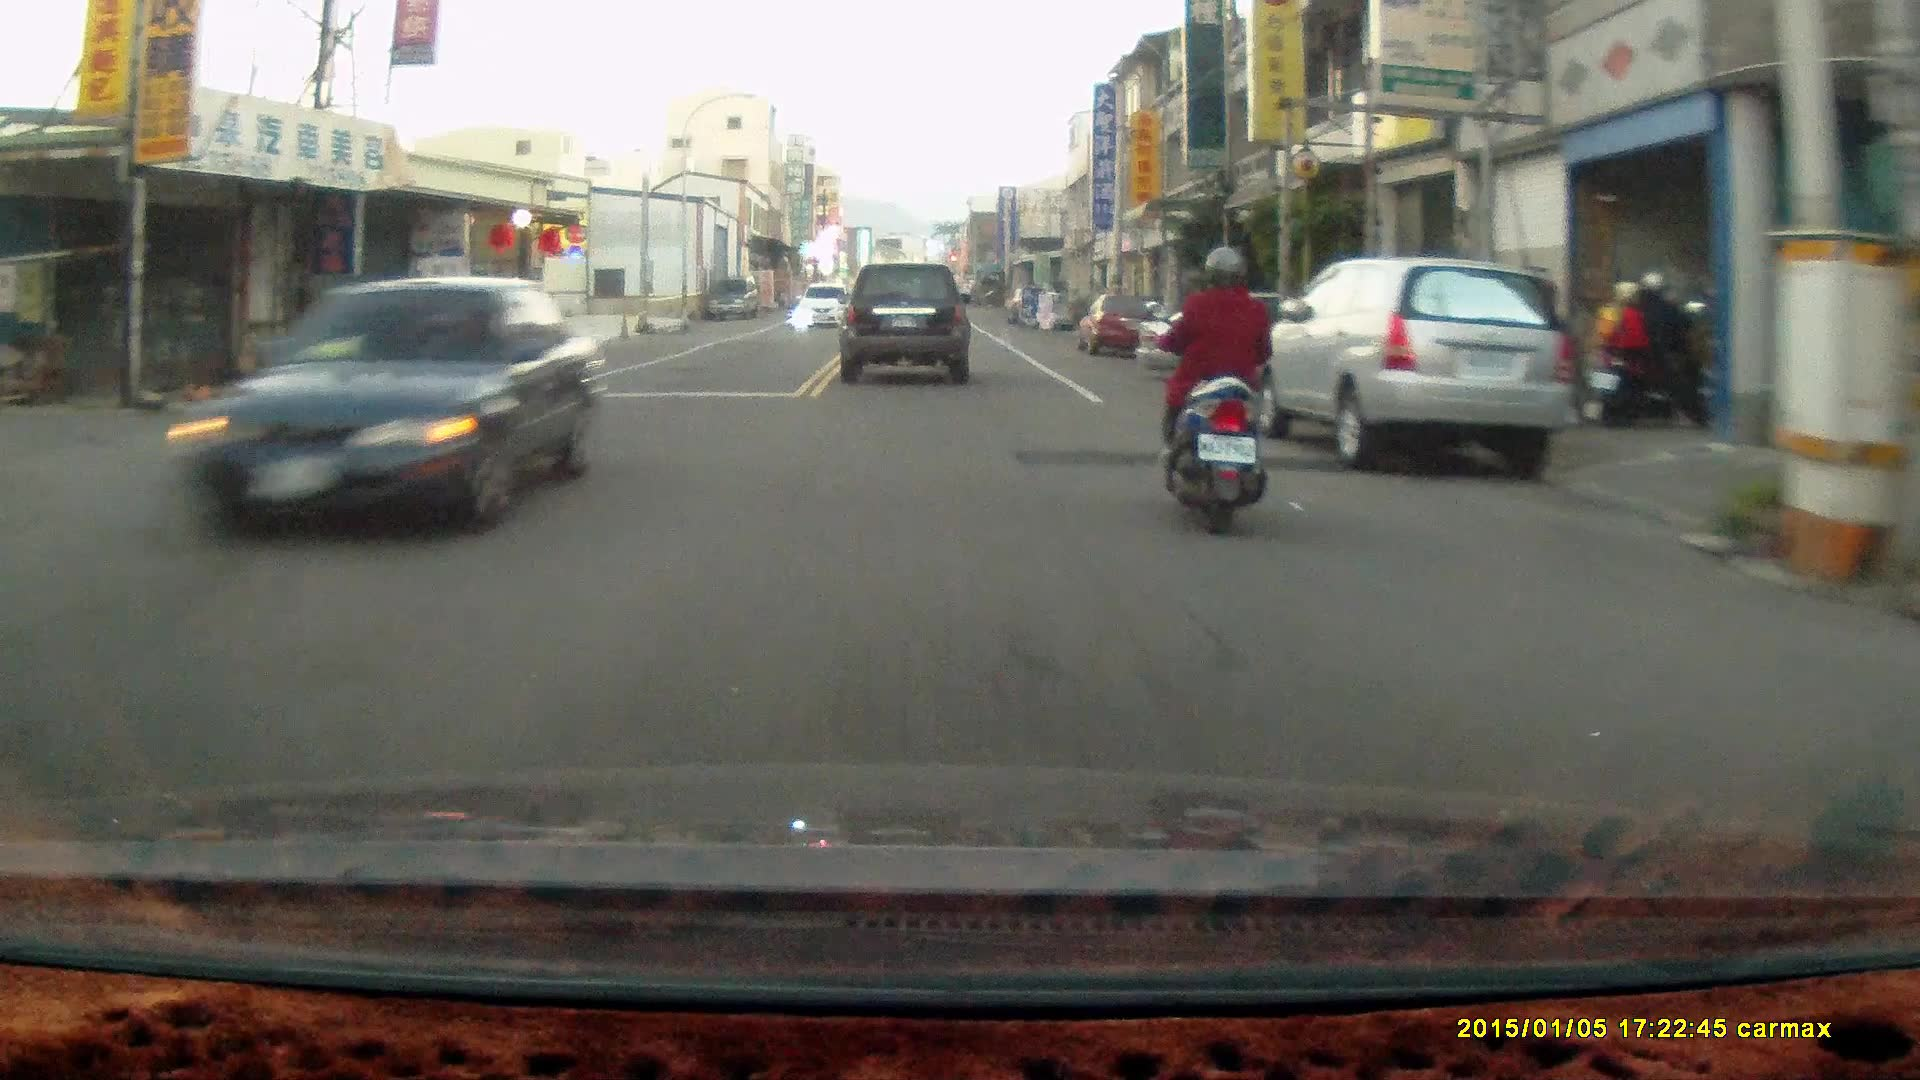rider: (1147, 245, 1270, 540), (1591, 265, 1709, 430)
vehicle: (175, 276, 603, 542), (1258, 256, 1574, 467), (840, 260, 973, 386), (1078, 293, 1159, 359), (793, 282, 849, 330)
